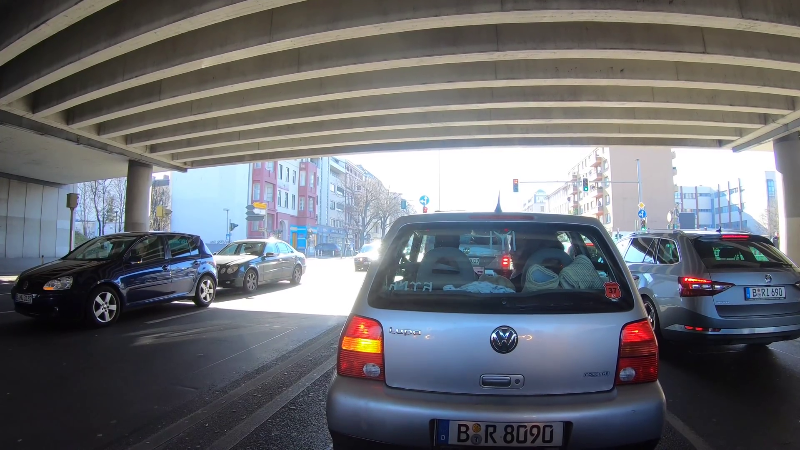Plate: (427, 414, 567, 450), (744, 285, 787, 300), (13, 292, 33, 303)
